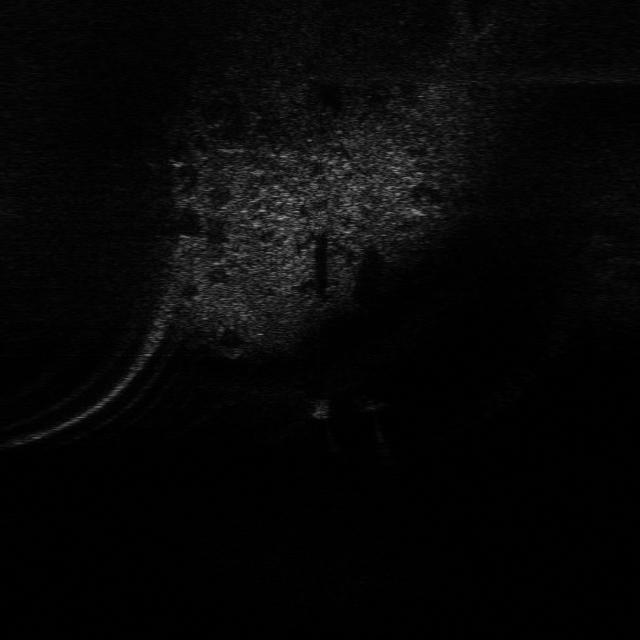cube: (354, 390, 388, 414)
cylinder: (307, 392, 333, 420)
